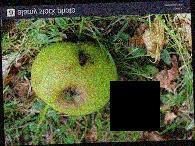rotten apple: (30, 41, 121, 119)
